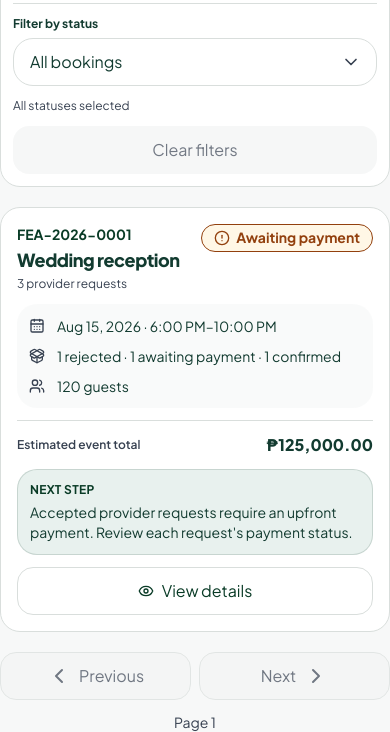
Test: customer booking history and details › keeps a processing payment non-actionable in the drawer
(page scrolled)
Click the button with aria-label "View booking FEA-2026-0001": [195, 591] box [17, 567, 373, 615]
(page scrolled)
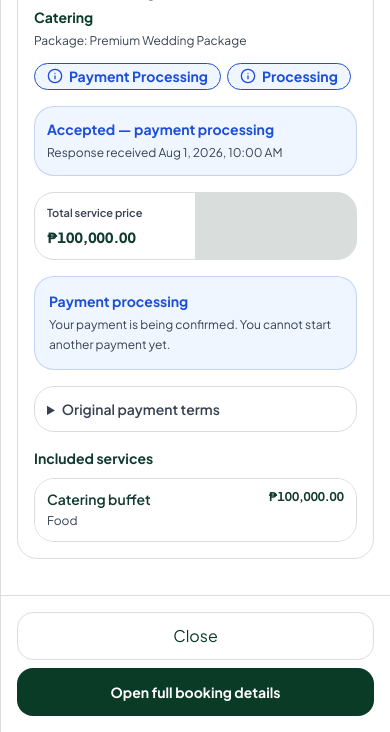
Now the text "Your payment is being confirmed. You cannot start another payment yet." is shown, box [49, 315, 342, 355]
